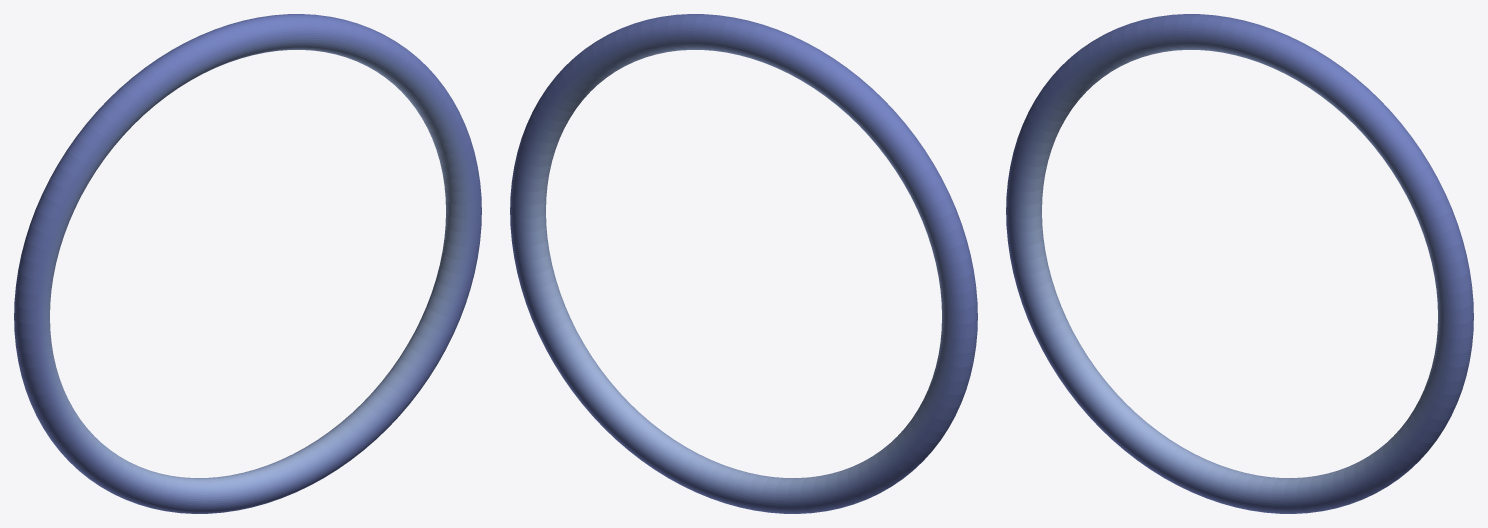
3 views of the same model, side by side, from view 1: azimuth 30°, elevation 25°; view 2: azimuth 150°, elevation 25°; view 3: azimuth 330°, elevation 25° (orthographic).
Visible parts, largest first — view 1: world; view 2: world; view 3: world.
Part boxes in pixels (<box>): world: <box>14,14,481,513</box>; world: <box>510,14,977,513</box>; world: <box>1006,14,1473,513</box>.
Size of the model in its own units: 29.78 by 29.78 by 2.
